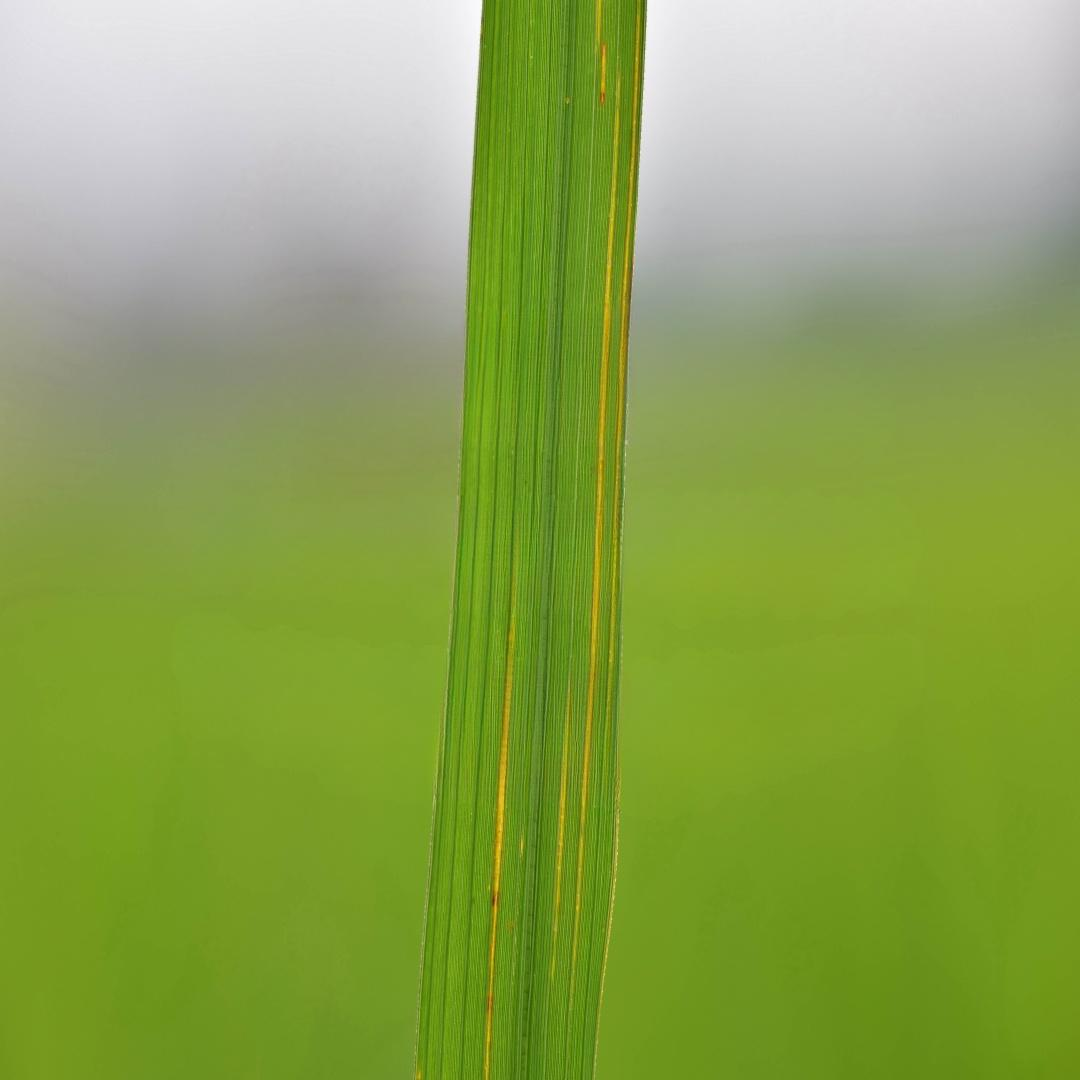BLS: (572, 66, 621, 974), (603, 0, 641, 772), (484, 615, 516, 1079), (549, 679, 570, 982), (600, 45, 606, 104), (596, 0, 602, 47)
LEAF: (414, 0, 646, 1079)
